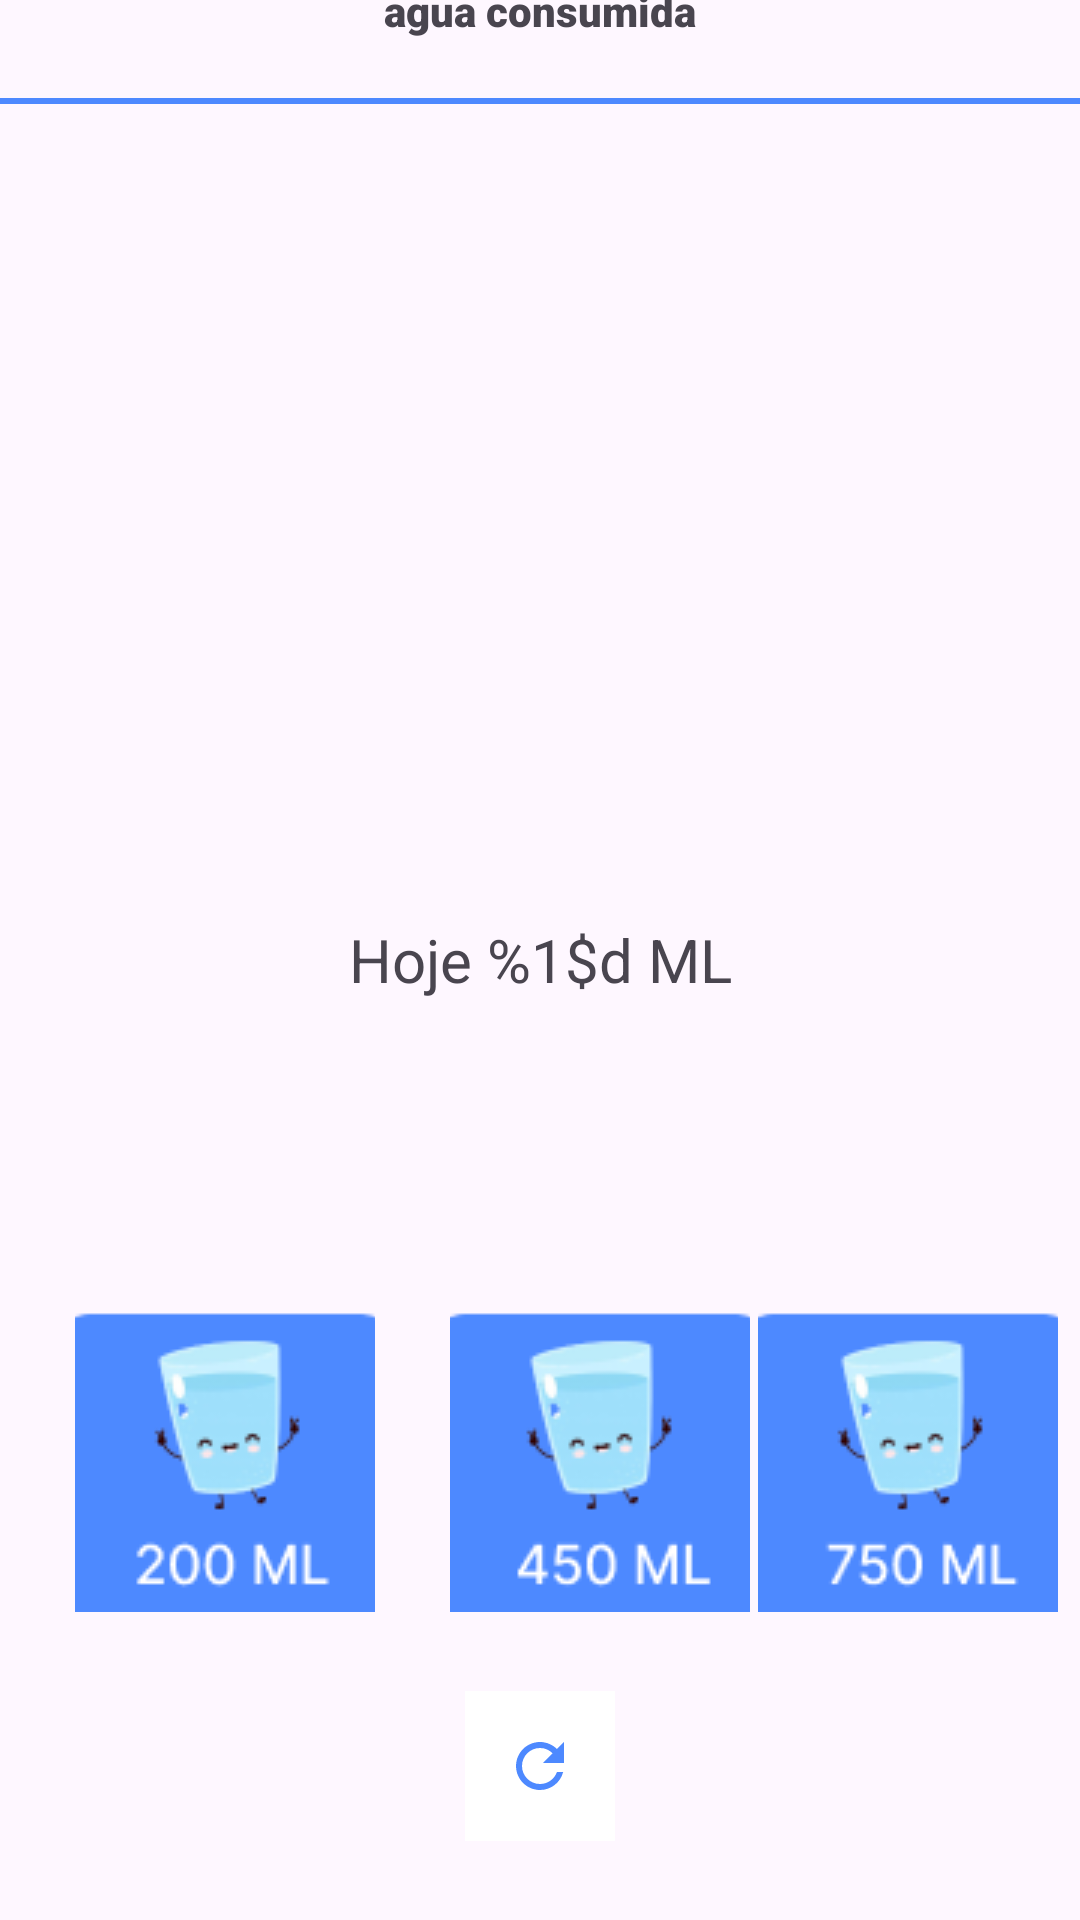

Screen size 1080w x 1920h. Icon name, then its center in pixels as point (x, y):
Botão para reserta: point (540, 1766)
